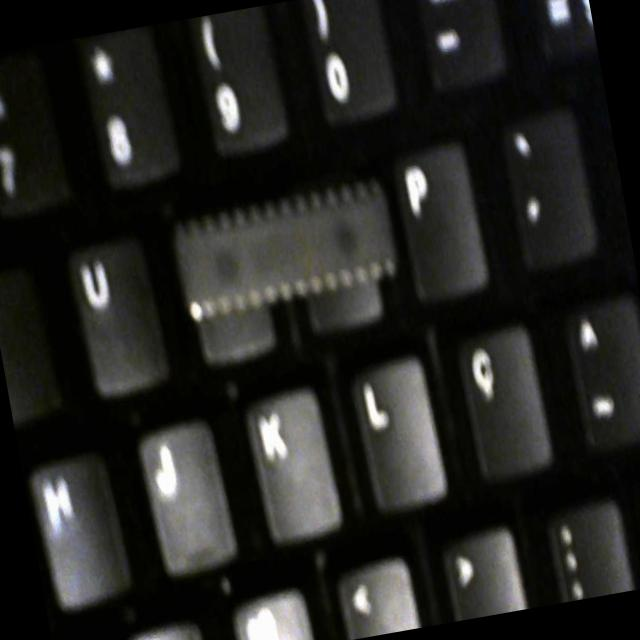atmega: (166, 178, 408, 321)
